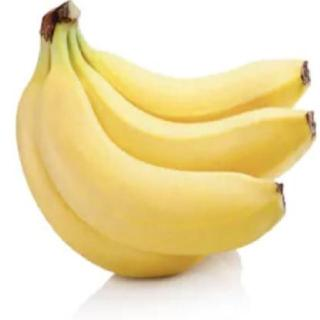banana: (34, 66, 290, 258), (15, 65, 233, 278), (62, 58, 317, 194), (77, 45, 312, 138)
